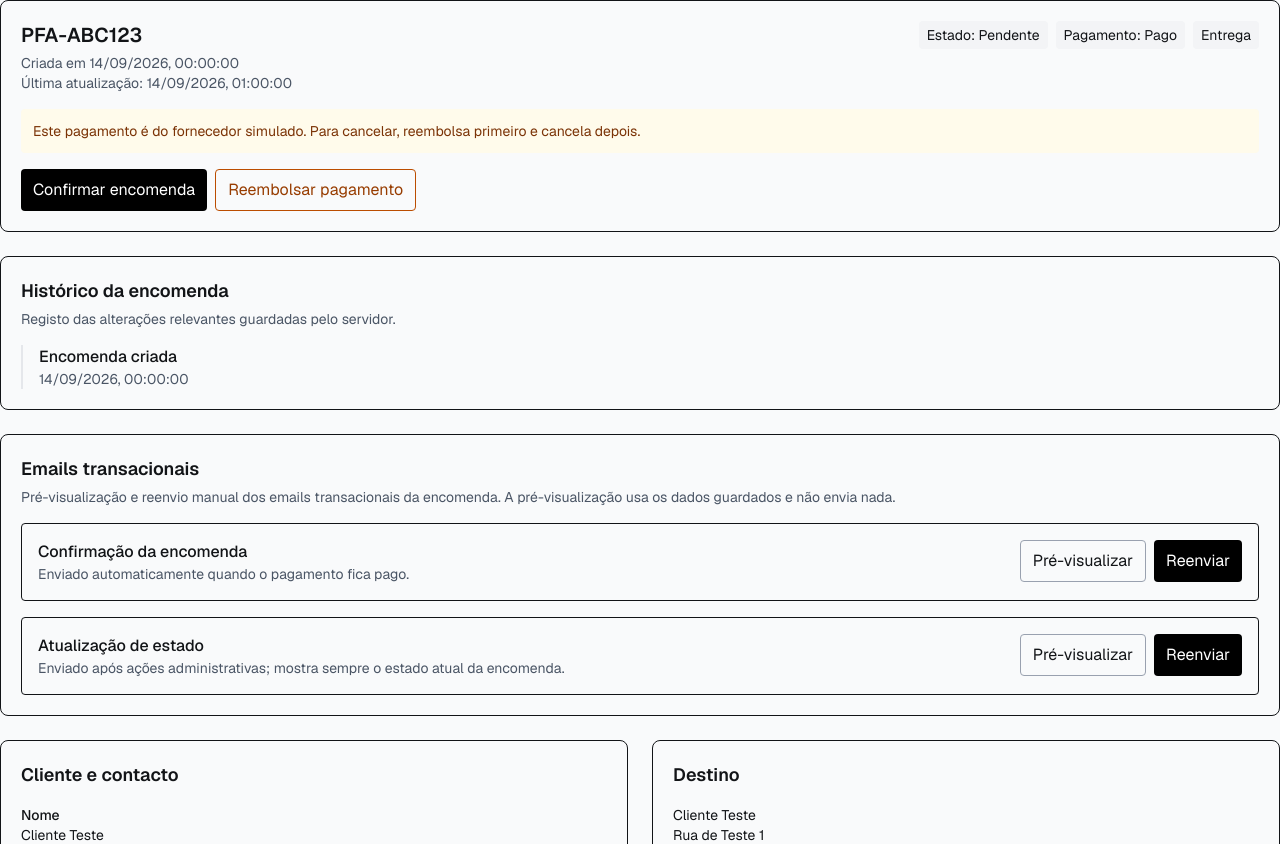
Test: Admin Order Detail Client › avança o estado enviando apenas a ação administrativa
Click the button "Confirmar encomenda". click: (114, 190)
box: [21, 169, 207, 211]
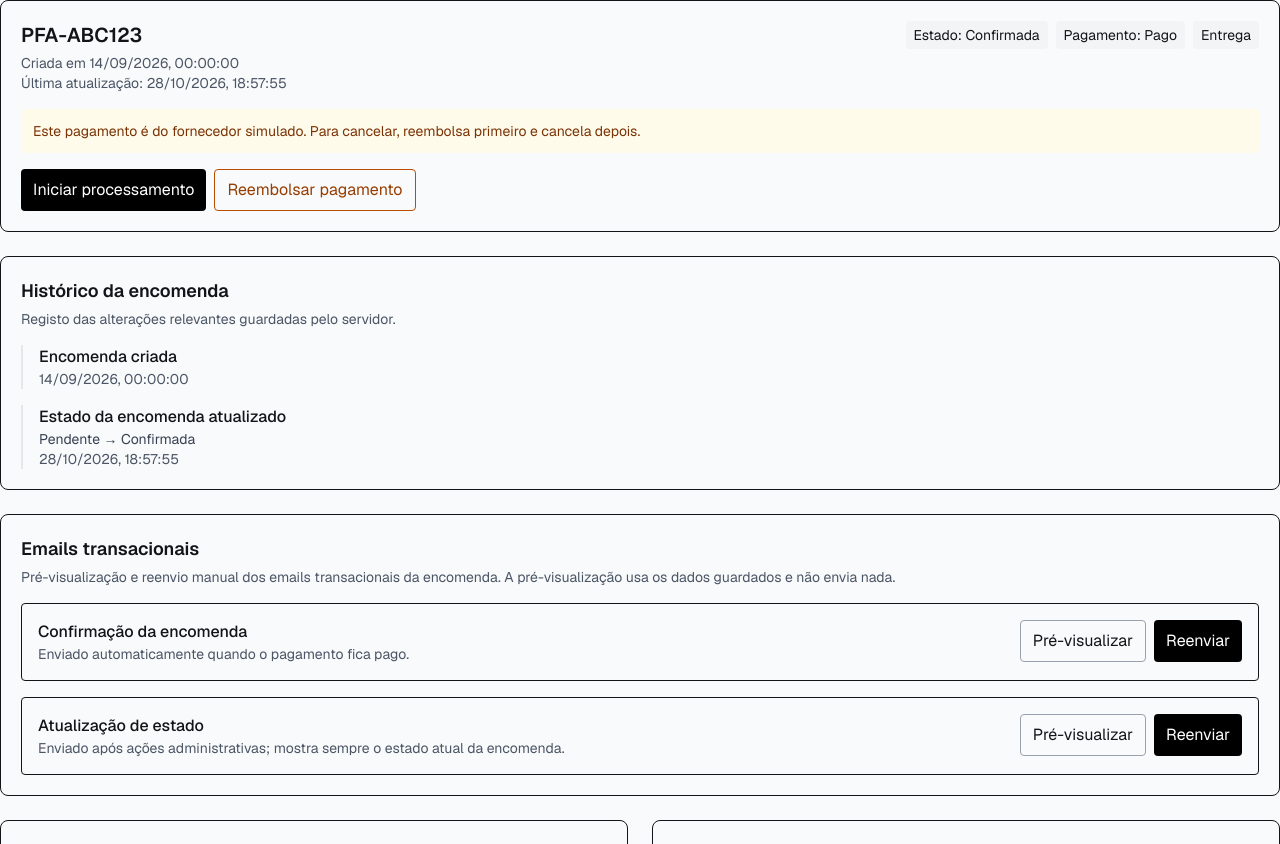
expect the text "Estado: Confirmada" is shown: met, box [906, 21, 1048, 49]
